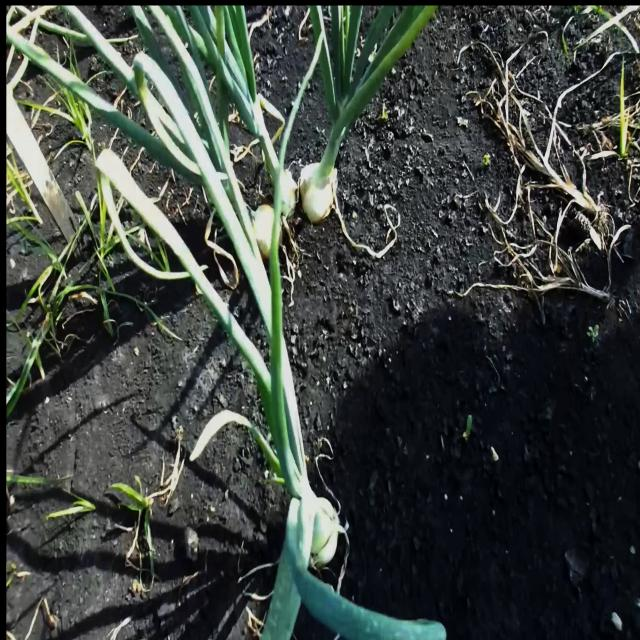onion: (299, 161, 338, 225), (310, 498, 340, 572), (253, 203, 282, 262)
